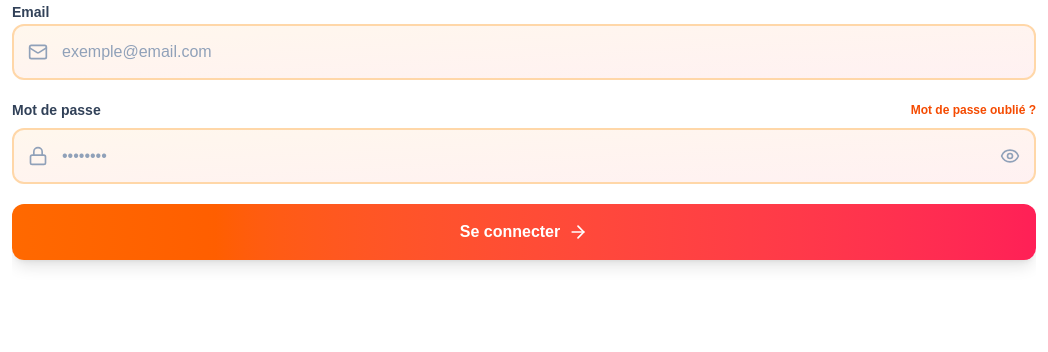
Test case: LoginForm › displays API error message on login failure
In the field with placeholder "exemple@email.com": (524, 52) [12, 24, 1036, 80], type "test@example.com"
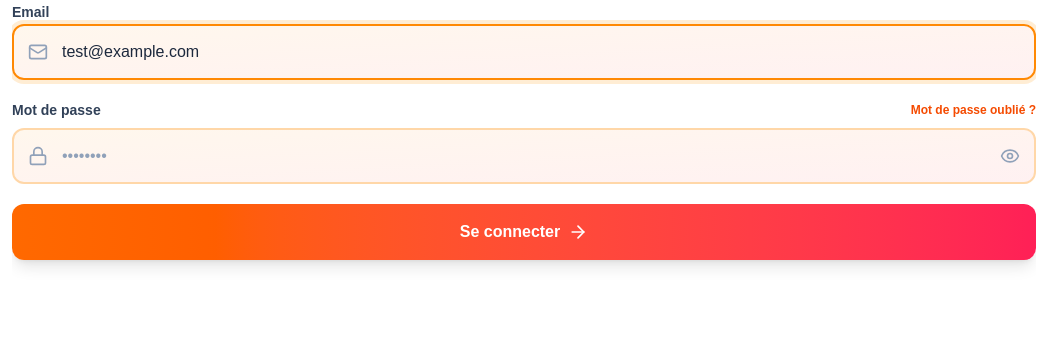
In the password field with placeholder "••••••••": (524, 156) [12, 128, 1036, 184], type "wrongpassword"
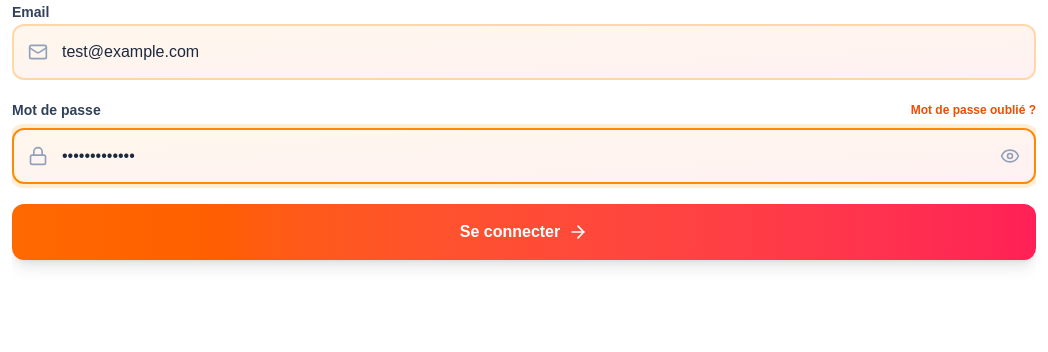
Click the button "Se connecter": (524, 232) [12, 204, 1036, 260]
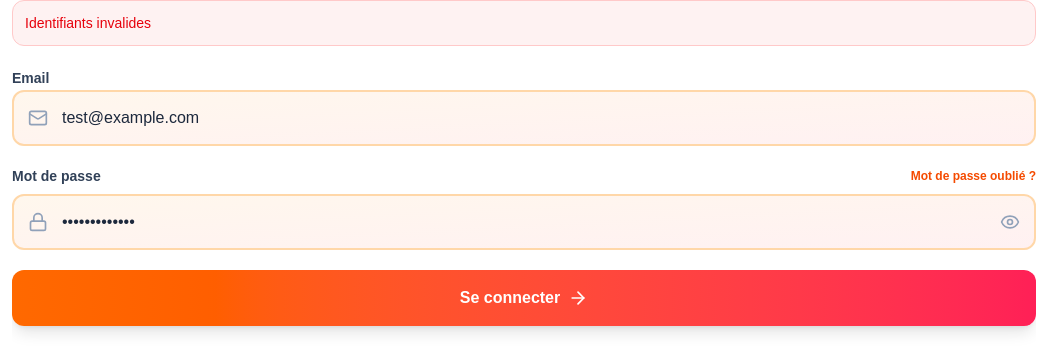
Check: the text "Identifiants invalides" is shown, box [12, 0, 1036, 46]
